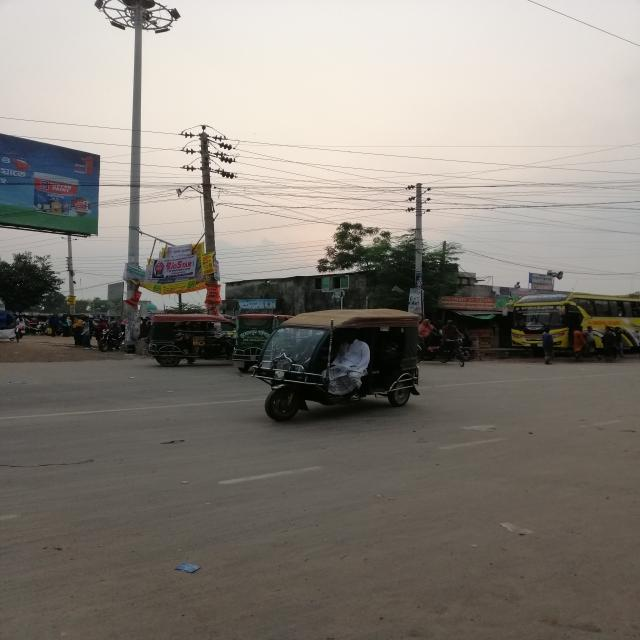Bus: (512, 295, 640, 352)
Easybike: (256, 309, 430, 423)
